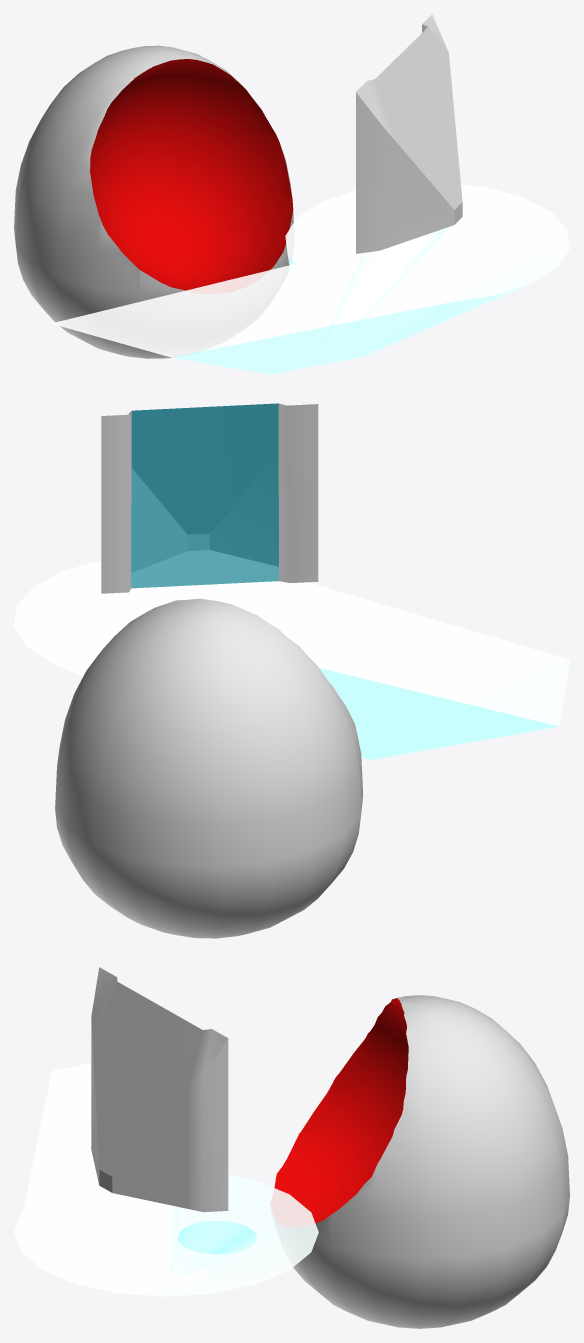
File: FullOffice1.fbx
3 renders of one model, top to bottom at view 1: azimuth 30°, elevation 25°; view 2: azimuth 150°, elevation 25°; view 3: azimuth 270°, elevation 25°, orthographic. The views are drawn at different scales.
Parts seen in each view (by area): view 1: pasted__polySurface1, polySurface8, pCube2; view 2: pasted__polySurface1, polySurface8, pCube2; view 3: pasted__polySurface1, polySurface8, pCube2.
Part boxes in pixels (<box>): pasted__polySurface1: <box>14,45,293,358</box>; polySurface8: <box>51,184,569,374</box>; pCube2: <box>356,14,462,253</box>; pasted__polySurface1: <box>55,598,362,938</box>; polySurface8: <box>14,560,569,759</box>; pCube2: <box>101,403,318,593</box>; pasted__polySurface1: <box>274,995,569,1328</box>; polySurface8: <box>14,1063,318,1296</box>; pCube2: <box>91,967,228,1212</box>.
Size of the model in its own units: 11.38 by 7.76 by 10.5.
